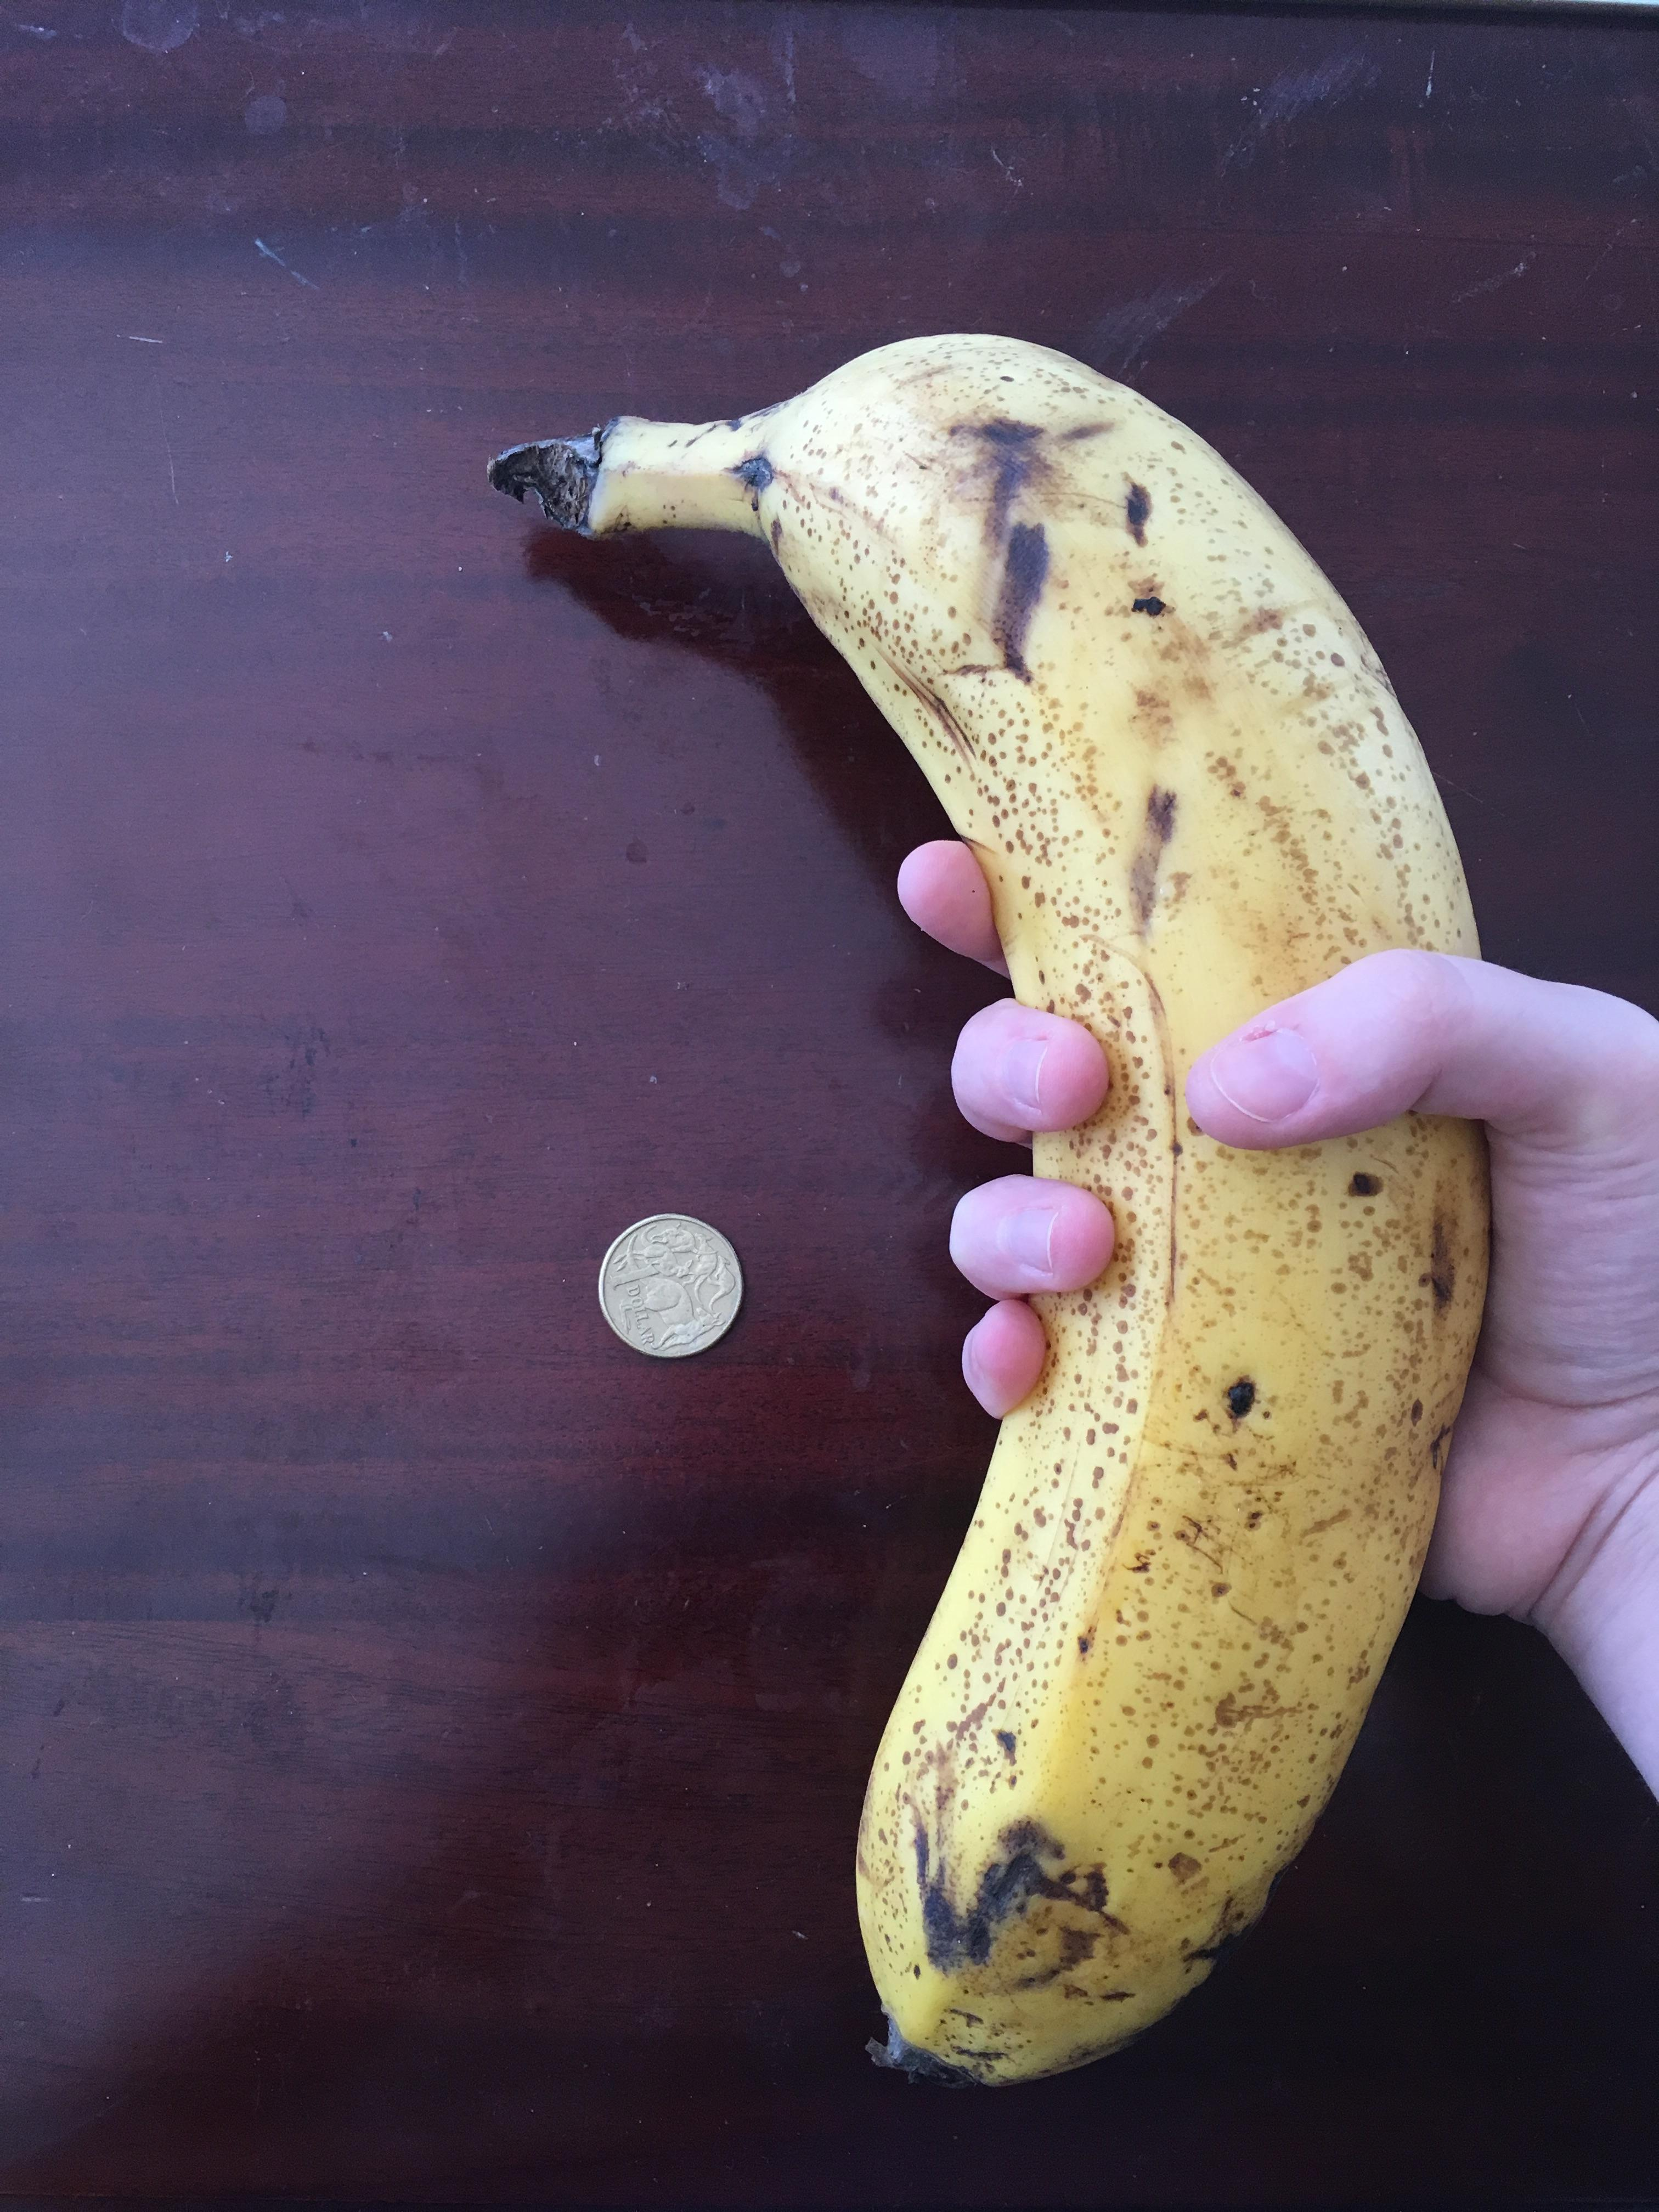Banana: (481, 333, 1497, 2081)
